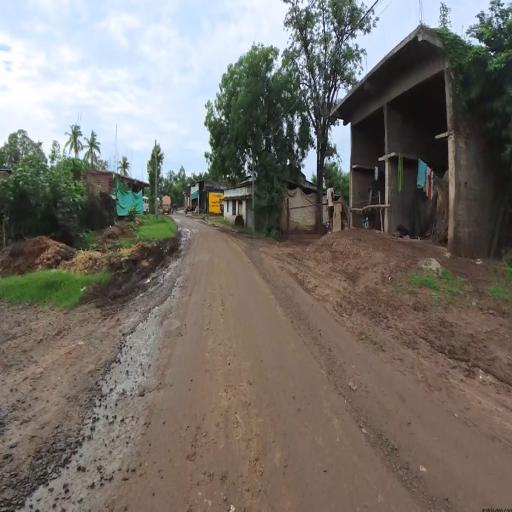edge_damage: (76, 295, 162, 479)
